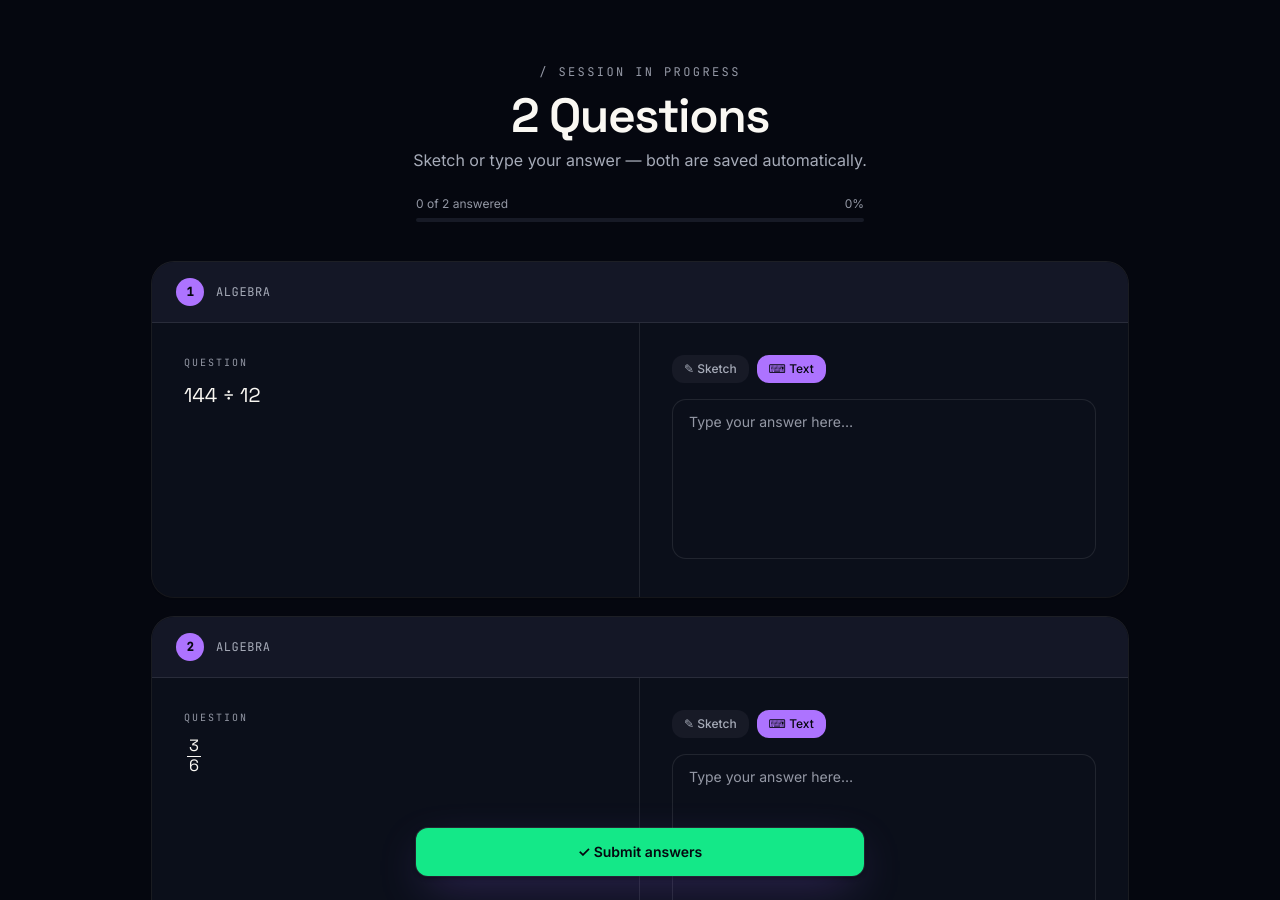
Test: PracticePage › asks for confirmation when submitting with no answers
Click the button "✓ Submit answers". click: (640,852)
box: [416,828,864,876]
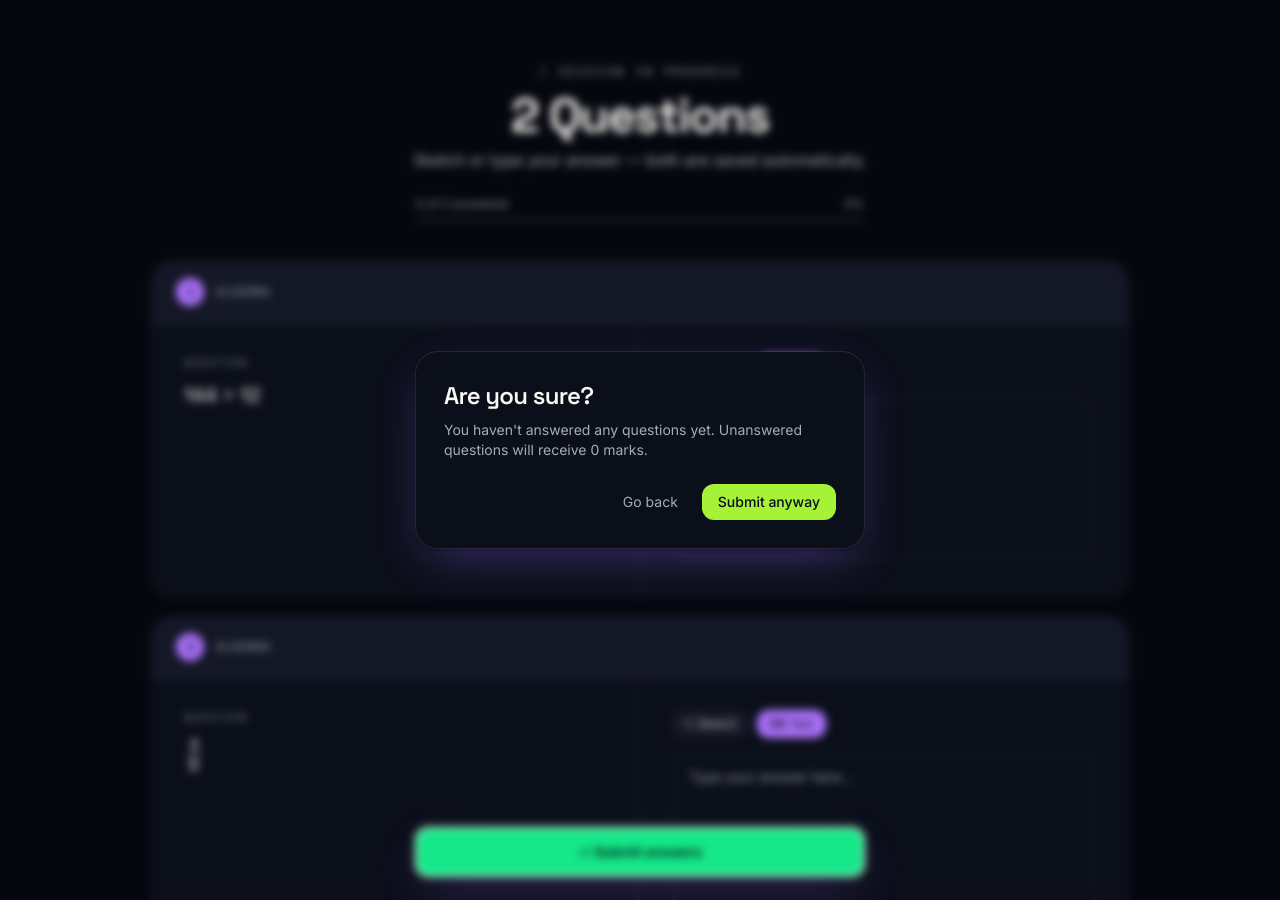
Now the heading "Are you sure?" is shown, box [444,380,593,411]
